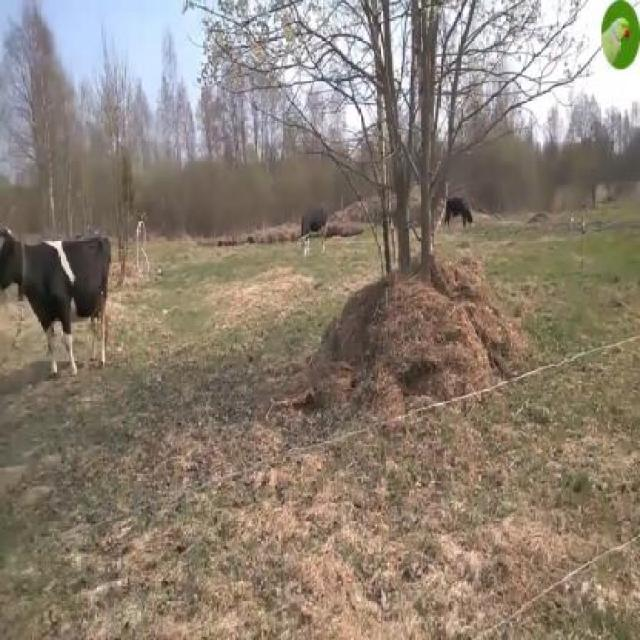Cow: (0, 228, 111, 382)
